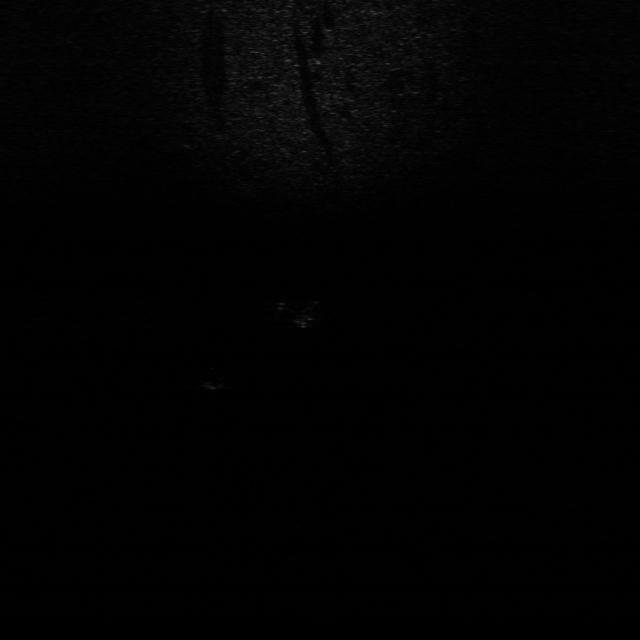ball: (196, 362, 228, 390)
human body: (277, 295, 328, 333)
